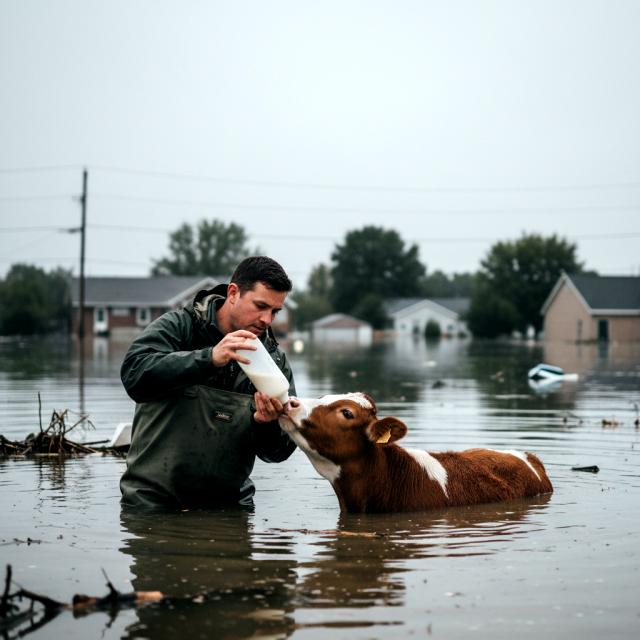civilian: (106, 241, 304, 525)
cow: (269, 383, 576, 544)
